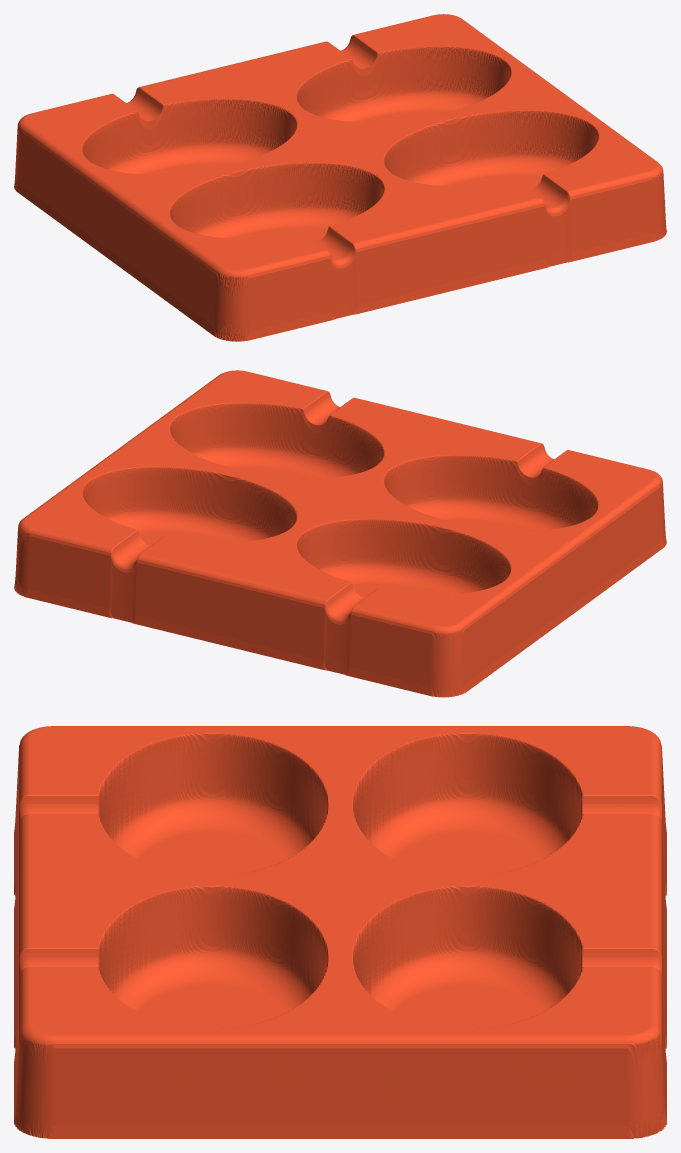
The model's file is mold.glb.
The picture shows the model from 3 angles, top to bottom: view 1: azimuth 30°, elevation 25°; view 2: azimuth 150°, elevation 25°; view 3: azimuth 270°, elevation 25°; orthographic projection. The views are drawn at different scales.
Visible parts, largest first — view 1: geometry_0; view 2: geometry_0; view 3: geometry_0.
Part boxes in pixels (x1,y1,x2,y2): geometry_0: [14, 14, 666, 341]; geometry_0: [14, 370, 666, 697]; geometry_0: [14, 726, 666, 1138].
Size of the model in its own units: 0.1726 by 0.0245 by 0.1485.
